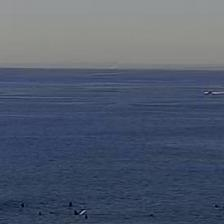surfer: (20, 202, 25, 208), (73, 210, 78, 215), (84, 213, 88, 219), (37, 211, 41, 215), (68, 202, 72, 206), (214, 204, 218, 208), (222, 205, 224, 210), (149, 214, 154, 216)
